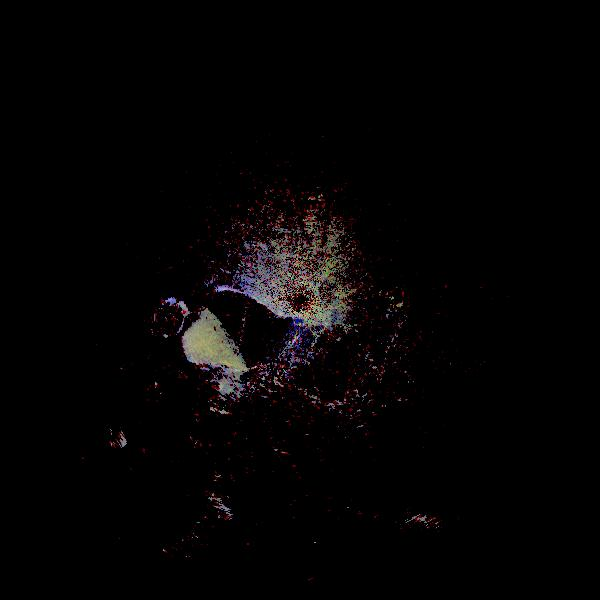roost: (74, 266, 275, 467)
